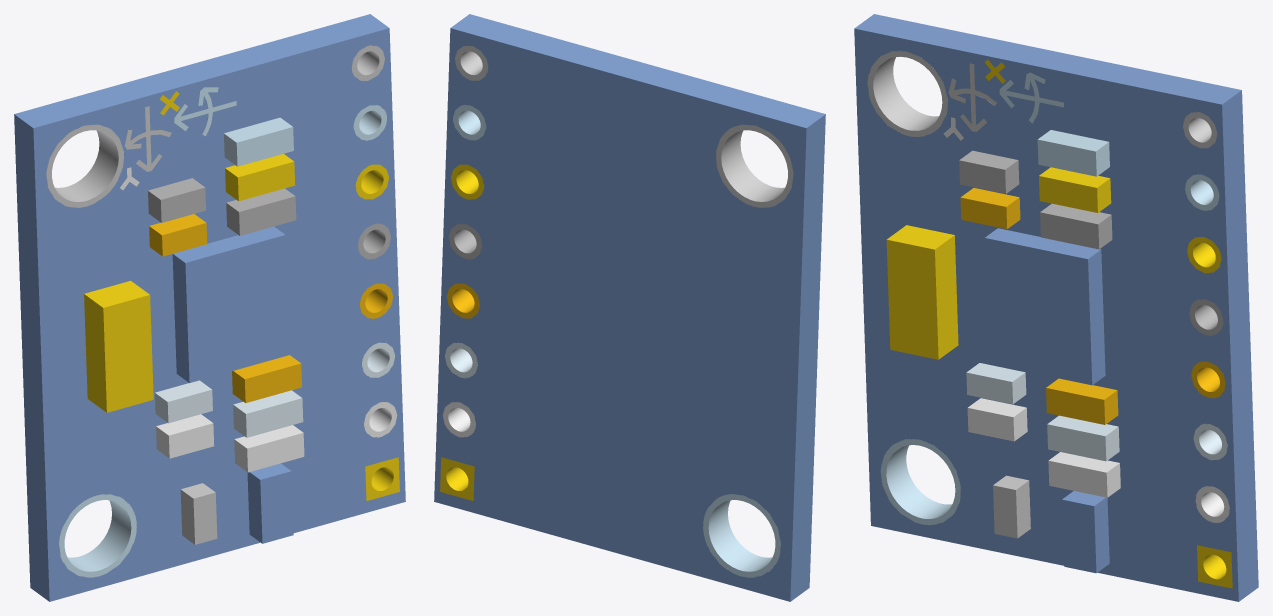
The model's file is imu_link.gltf.
The picture shows the model from 3 angles, left to right: view 1: azimuth 30°, elevation 25°; view 2: azimuth 150°, elevation 25°; view 3: azimuth 330°, elevation 25°; orthographic projection. The views are drawn at different scales.
Parts seen in each view (by area): view 1: Surface 1, Part 16, Part 21, Part 8, Part 22, Part 23, Part 14, Part 11, Part 9, Part 10, Part 13, Part 12 (+15 smaller); view 2: Surface 1, Part 22, Part 23, Surface 6, Part 4, Part 1, Part 5, Part 2, Part 6, Part 7, Part 3; view 3: Surface 1, Part 16, Part 21, Part 8, Part 22, Part 23, Part 14, Part 11, Part 12, Part 9, Part 10, Part 13 (+15 smaller).
Part boxes in pixels (x1,y1,x2,y2): Surface 1: (14, 14, 405, 601); Part 16: (172, 226, 289, 382); Part 21: (84, 280, 153, 412); Part 8: (247, 463, 293, 543); Part 22: (59, 494, 136, 577); Part 23: (46, 124, 123, 207); Part 14: (224, 117, 293, 166); Part 11: (232, 355, 301, 403); Part 9: (234, 425, 304, 472); Part 10: (233, 390, 303, 437); Part 13: (225, 154, 295, 201); Part 12: (226, 188, 296, 235); Surface 1: (434, 14, 825, 601); Part 22: (703, 494, 780, 577); Part 23: (716, 124, 793, 207); Surface 6: (440, 457, 474, 500); Part 4: (448, 223, 481, 259); Part 1: (442, 402, 475, 437); Part 5: (451, 164, 484, 199); Part 2: (444, 342, 477, 378); Part 6: (453, 105, 486, 140); Part 7: (455, 45, 488, 80); Part 3: (447, 283, 479, 318); Surface 1: (854, 14, 1258, 601); Part 16: (984, 228, 1105, 385); Part 21: (886, 225, 958, 359); Part 8: (1062, 491, 1109, 573); Part 22: (880, 439, 960, 525); Part 23: (867, 50, 947, 136); Part 14: (1037, 130, 1109, 176); Part 11: (1046, 378, 1118, 424); Part 12: (1040, 203, 1112, 249); Part 9: (1048, 452, 1120, 497); Part 10: (1047, 415, 1119, 461); Part 13: (1039, 167, 1111, 212).
Bounding box in the file's own units: 0.0167 × 0.0211 × 0.003.
